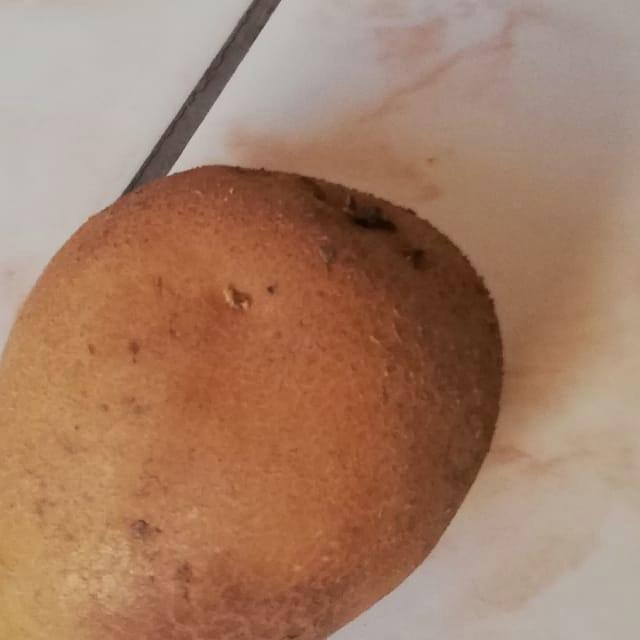potato: (0, 112, 528, 640)
